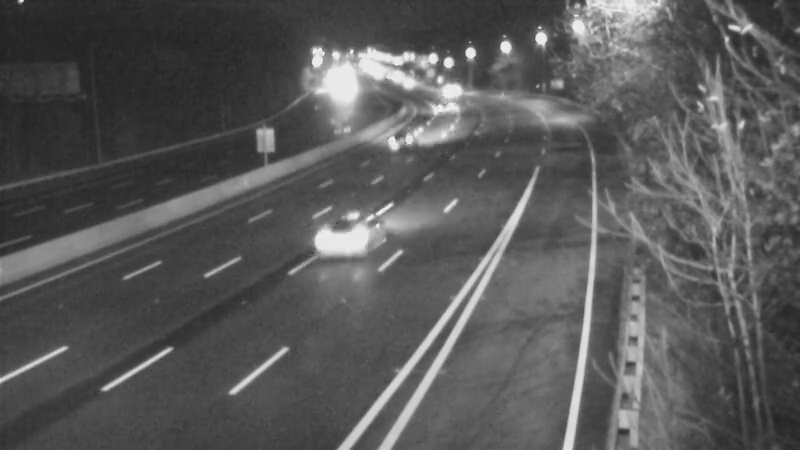vehicle: (302, 201, 382, 281), (418, 61, 468, 111), (420, 85, 470, 135), (376, 118, 426, 168)
